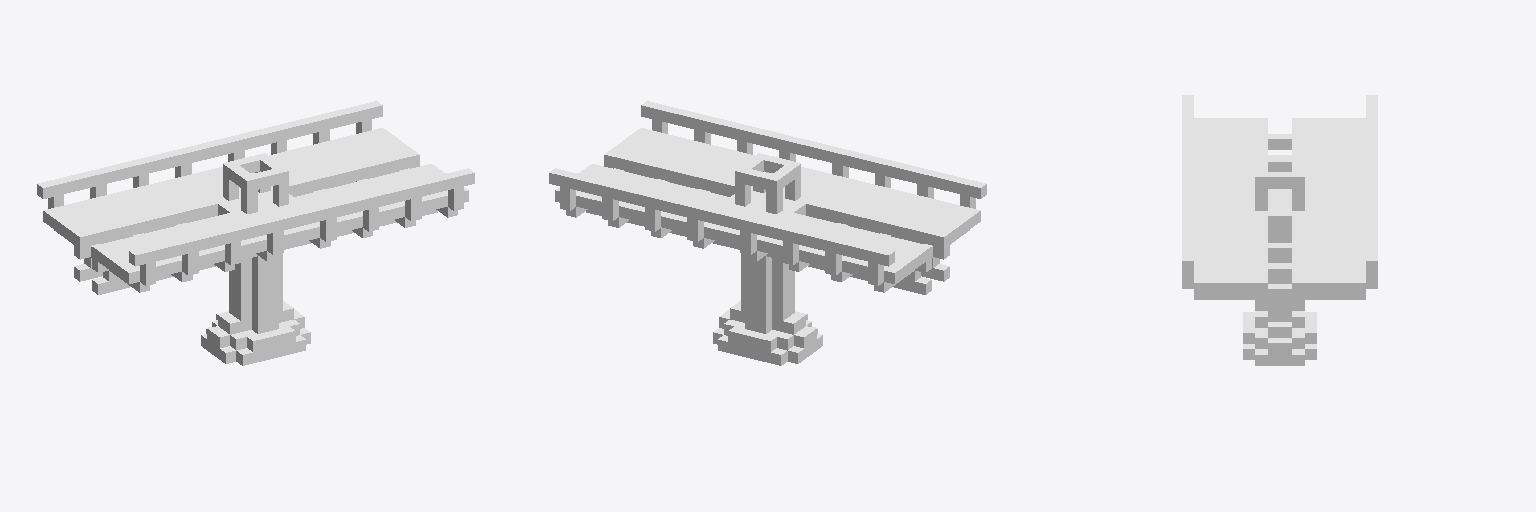
File: bridgeDirect2.obj
The picture shows the model from 3 angles: view 1: azimuth 30°, elevation 25°; view 2: azimuth 150°, elevation 25°; view 3: azimuth 270°, elevation 25°; orthographic projection.
Visible parts, largest first — view 1: bridgeDirect2; view 2: bridgeDirect2; view 3: bridgeDirect2.
Part boxes in pixels (bbox=[...]): bridgeDirect2: bbox=[37, 101, 474, 365]; bridgeDirect2: bbox=[549, 101, 986, 365]; bridgeDirect2: bbox=[1182, 95, 1377, 365].
Size of the model in its own units: 3.2 by 1.6 by 1.6.